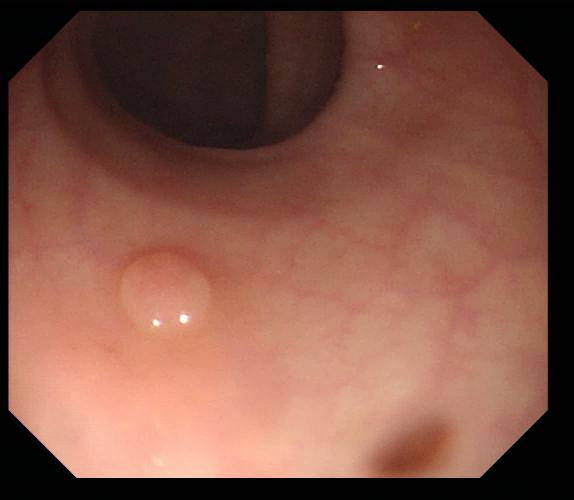polyp: (122, 250, 216, 343)
